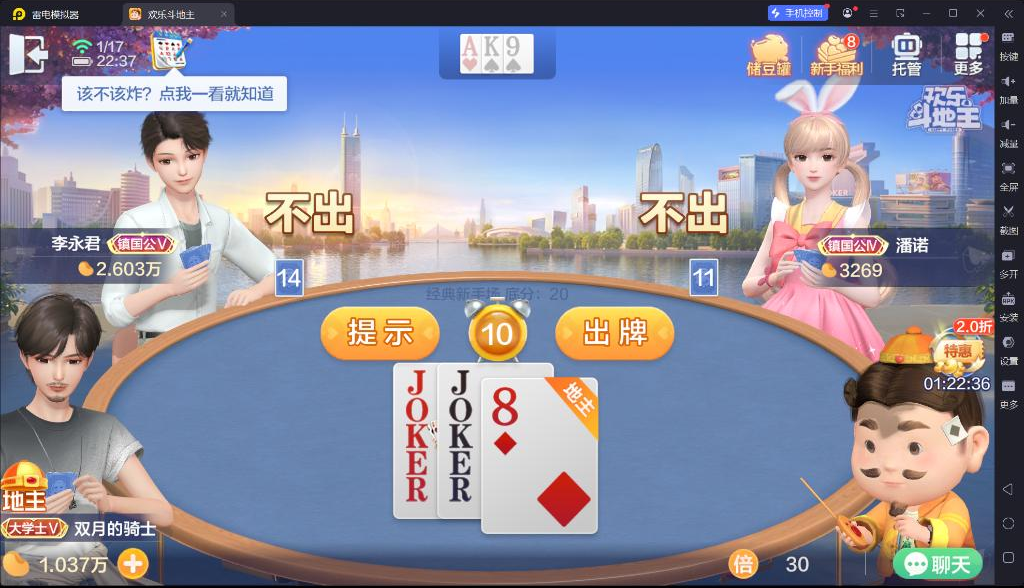A: (460, 34, 480, 58)
JOKER: (402, 368, 432, 453)
K: (482, 35, 502, 57)
eight: (490, 386, 520, 428)
joker: (446, 368, 475, 455)
nine: (504, 35, 523, 57)
